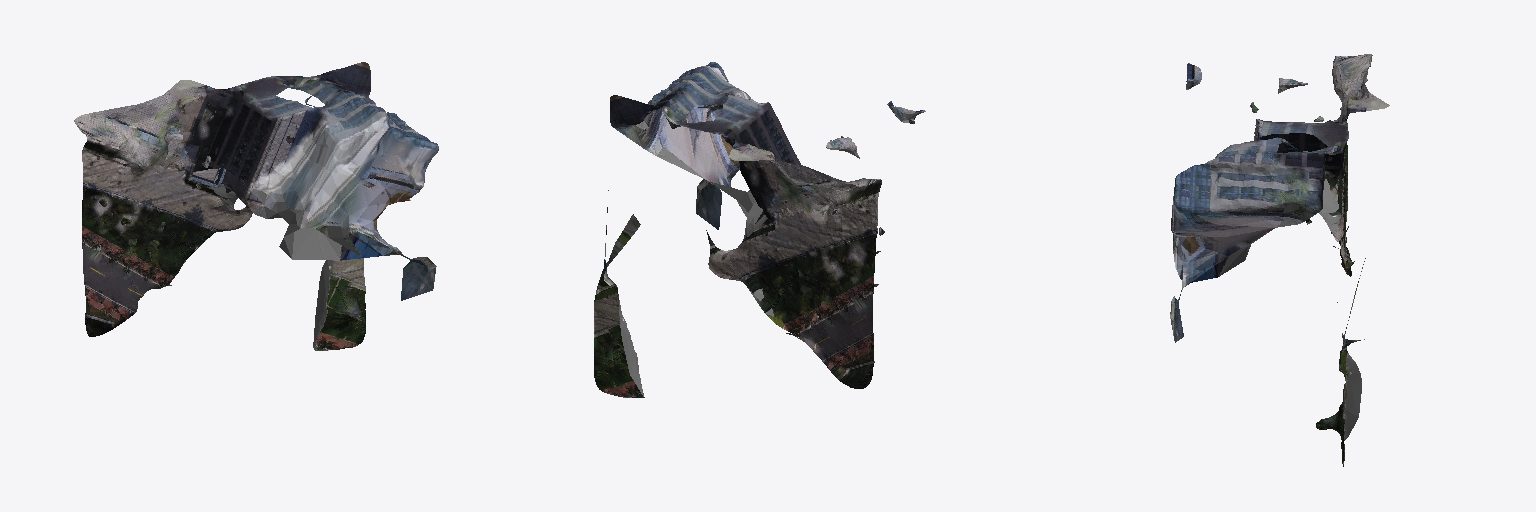
3 views of the same model, side by side, from view 1: azimuth 30°, elevation 25°; view 2: azimuth 150°, elevation 25°; view 3: azimuth 270°, elevation 25° (orthographic).
Bounding box in the file's own units: 61.25 × 60.13 × 40.93.
2 materials, 1 textured.